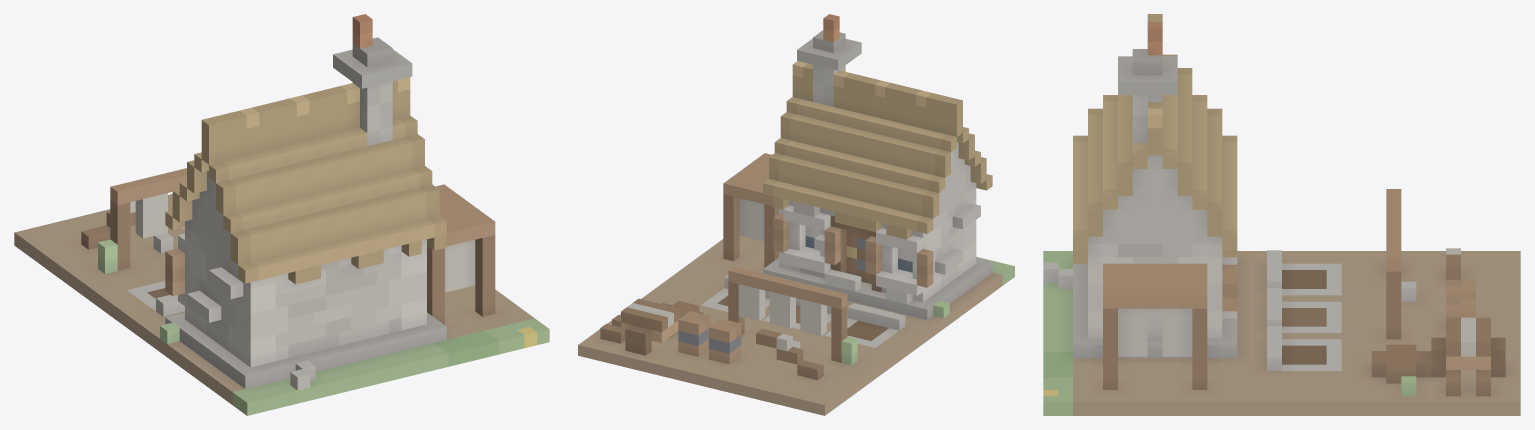
The model's file is tannery.glb.
3 renders of one model, left to right at view 1: azimuth 30°, elevation 25°; view 2: azimuth 150°, elevation 25°; view 3: azimuth 270°, elevation 25°, orthographic. The views are drawn at different scales.
Parts seen in each view (by area): view 1: tannery; view 2: tannery; view 3: tannery.
Part boxes in pixels (box(x1,y1,x2,y2)): tannery: box(14, 14, 549, 415); tannery: box(578, 14, 1014, 415); tannery: box(1043, 14, 1520, 415).
Size of the model in its own units: 3 by 3 by 4.
